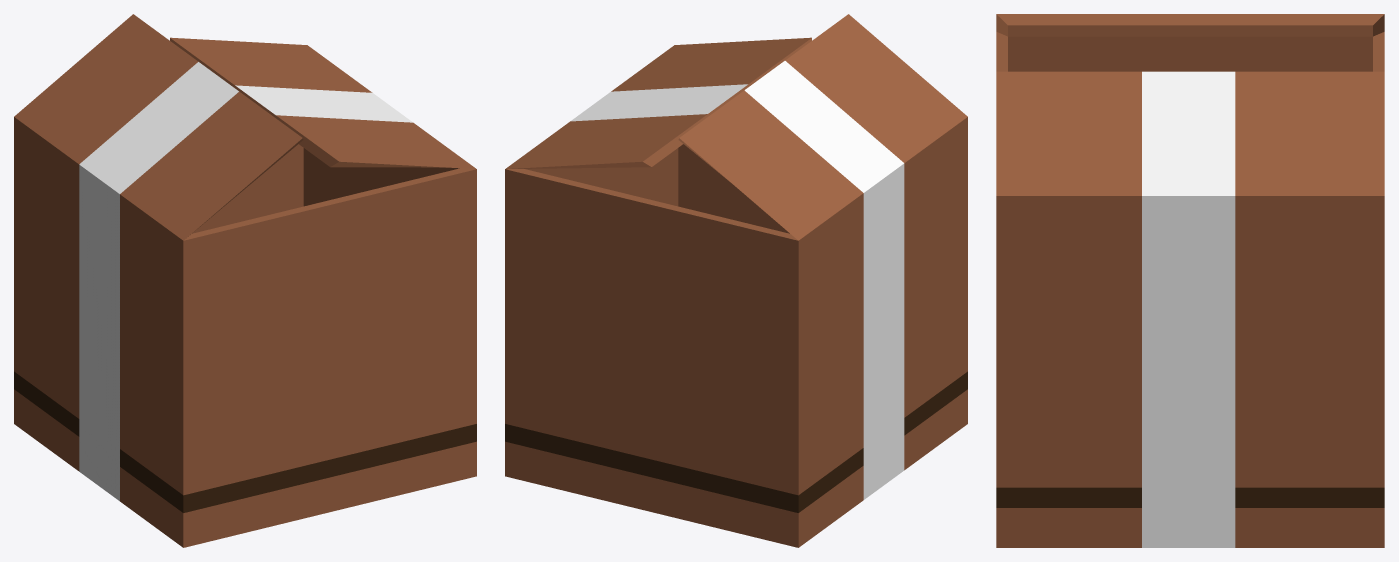
The model's file is destructible-cartoonbox2.obj.
3 renders of one model, left to right at view 1: azimuth 30°, elevation 25°; view 2: azimuth 150°, elevation 25°; view 3: azimuth 270°, elevation 25°, orthographic. The views are drawn at different scales.
Parts seen in each view (by area): view 1: Cube; view 2: Cube; view 3: Cube.
Boxes of the visible parts, left/top/right/bottom form: Cube: left=14, top=14, right=476, bottom=547; Cube: left=505, top=14, right=967, bottom=547; Cube: left=996, top=14, right=1384, bottom=547.
Size of the model in its own units: 2 by 2.48 by 2.
